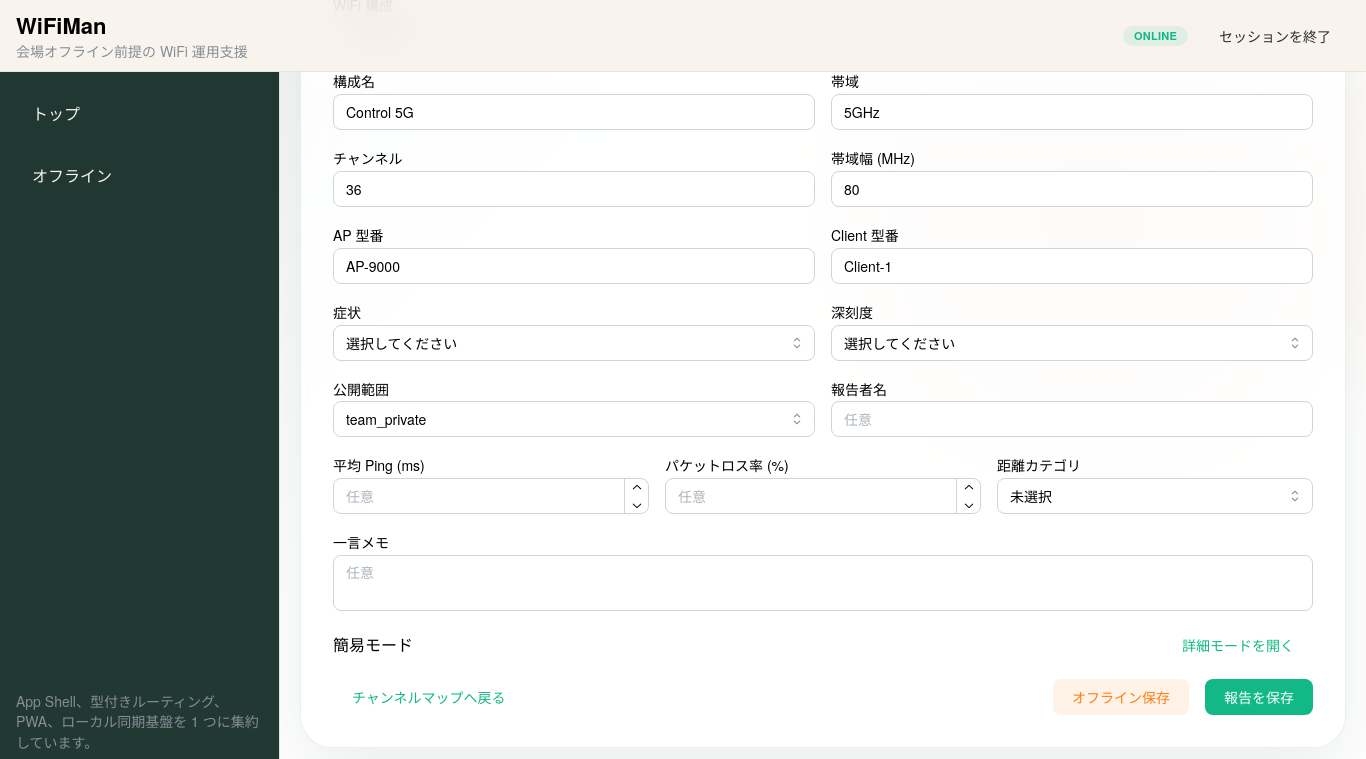
Test case: team management routes › 報告作成画面は簡易モードから詳細モードを展開できる
(page scrolled)
expect the field labelled "平均 Ping (ms)" is shown: met, box [333,478,649,514]
expect the field labelled "パケットロス率 (%)" is shown: met, box [665,478,981,514]
Click the button "詳細モードを開く". click: [1238, 645]
box: [1163,627,1313,663]
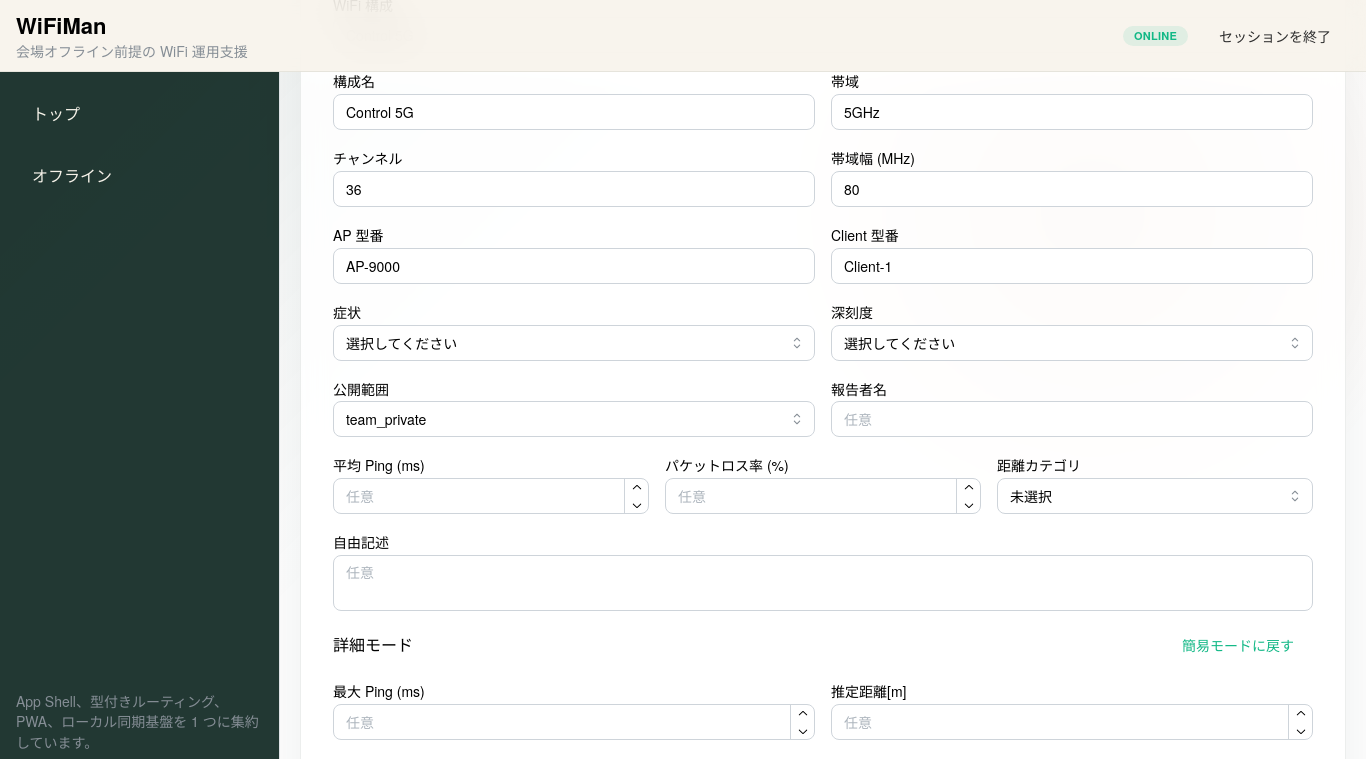
expect the field labelled "平均 Ping (ms)" is shown: met, box [333,478,649,514]
expect the field labelled "最大 Ping (ms)" is shown: met, box [333,704,815,740]
expect the field labelled "推定距離[m]" is shown: met, box [831,704,1313,740]
